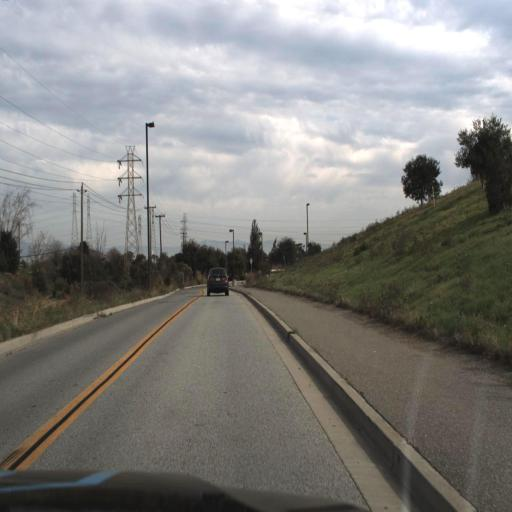car: (204, 266, 228, 297)
